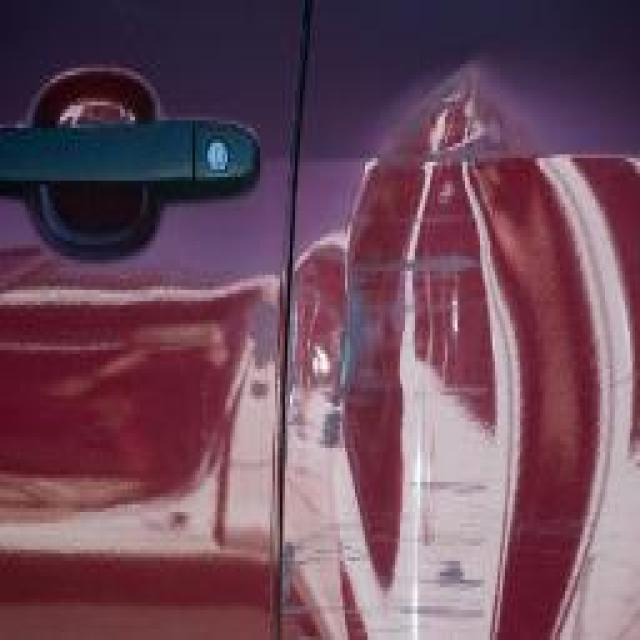Fender: (278, 43, 640, 639)
